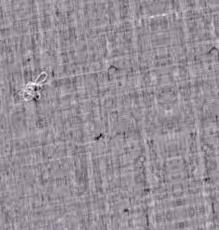snag: (17, 69, 57, 107)
